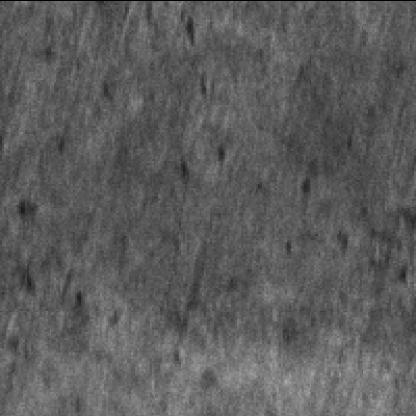rolled-in_scale: (288, 233, 410, 341), (2, 246, 106, 372)
